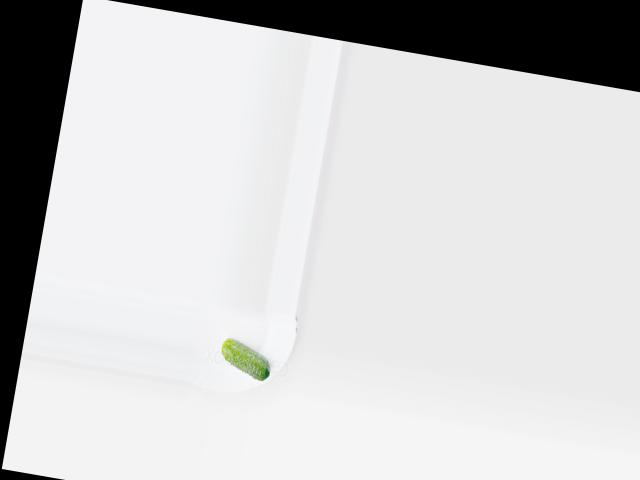cucumber: (217, 336, 273, 381)
